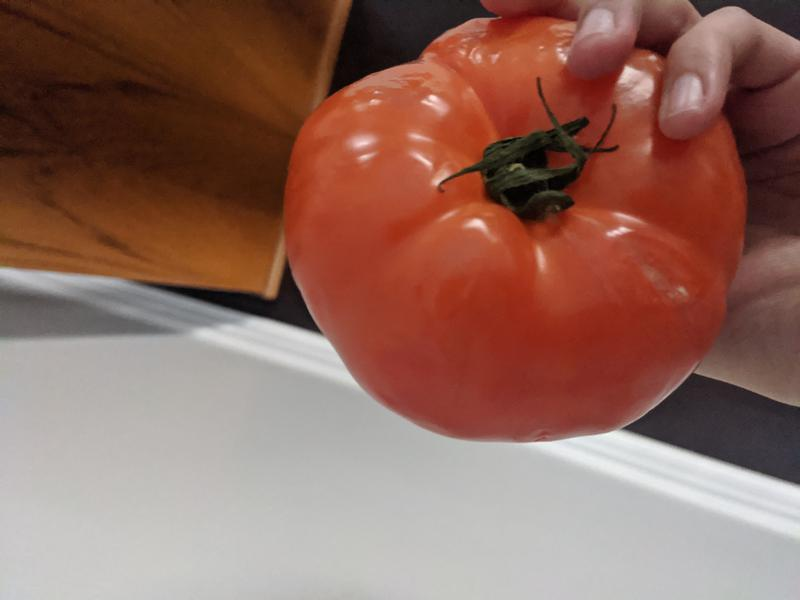tomato: (284, 13, 750, 443)
